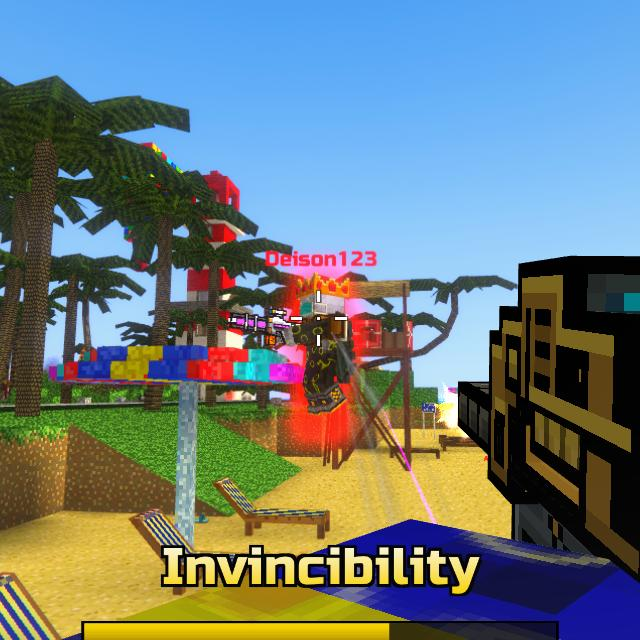Enemy: (278, 282, 358, 417)
